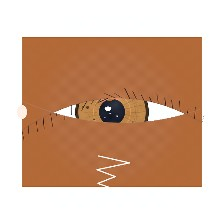foreign_body_visible: (91, 115, 140, 154)
